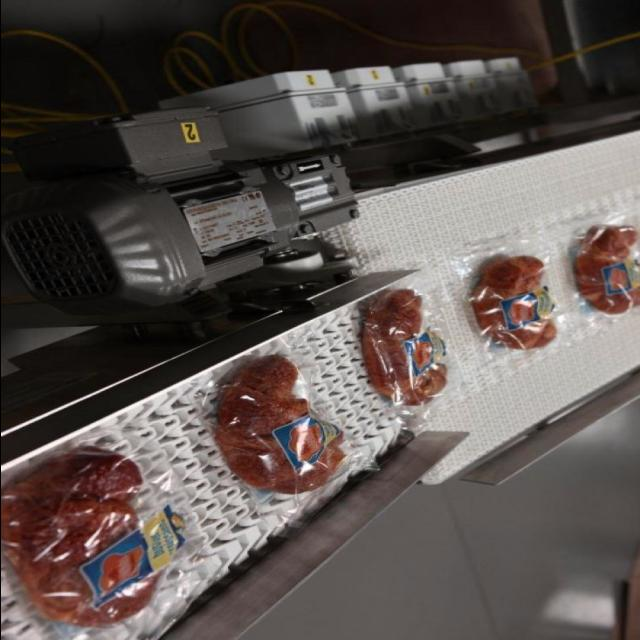food: (2, 444, 190, 628), (212, 354, 356, 496), (360, 287, 450, 407), (468, 254, 560, 350), (570, 223, 640, 316)
